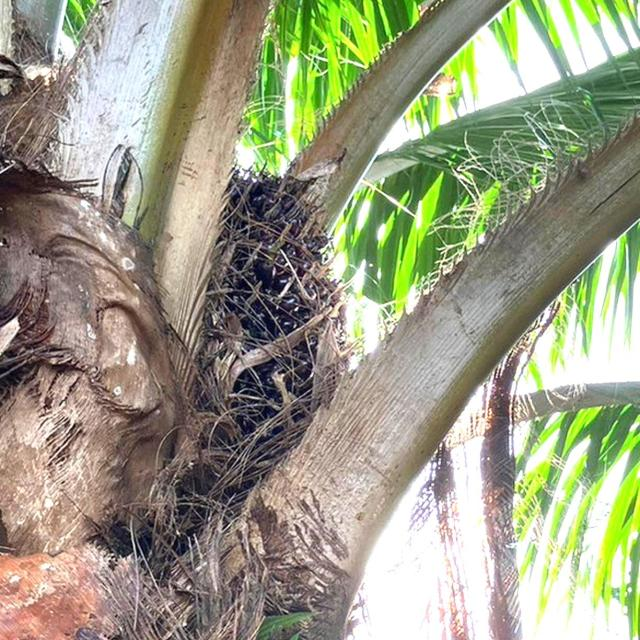unripe: (175, 152, 362, 518)
